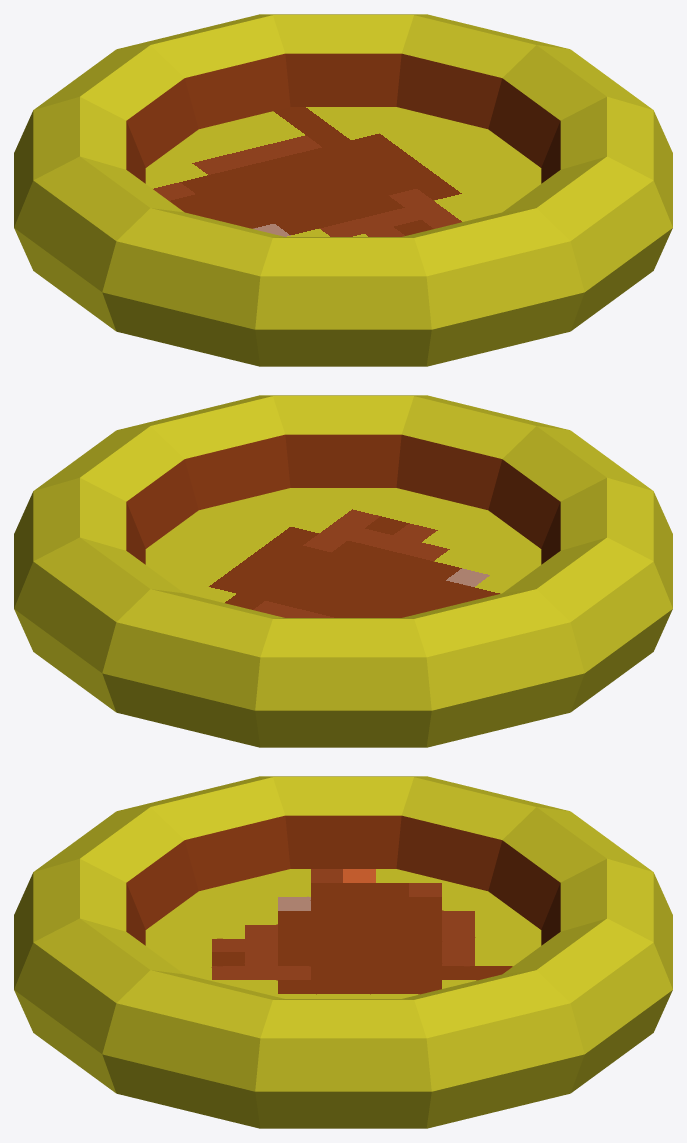
File: coin_egh.obj
3 renders of one model, top to bottom at view 1: azimuth 30°, elevation 25°; view 2: azimuth 150°, elevation 25°; view 3: azimuth 270°, elevation 25°, orthographic.
Parts seen in each view (by area): view 1: cylinder; view 2: cylinder; view 3: cylinder.
Boxes of the visible parts, x1,y1,x2,y2 form: cylinder: (14, 14, 672, 366); cylinder: (14, 395, 672, 747); cylinder: (14, 776, 672, 1128).
Bounding box in the file's own units: 0.625 × 0.1338 × 0.625.
